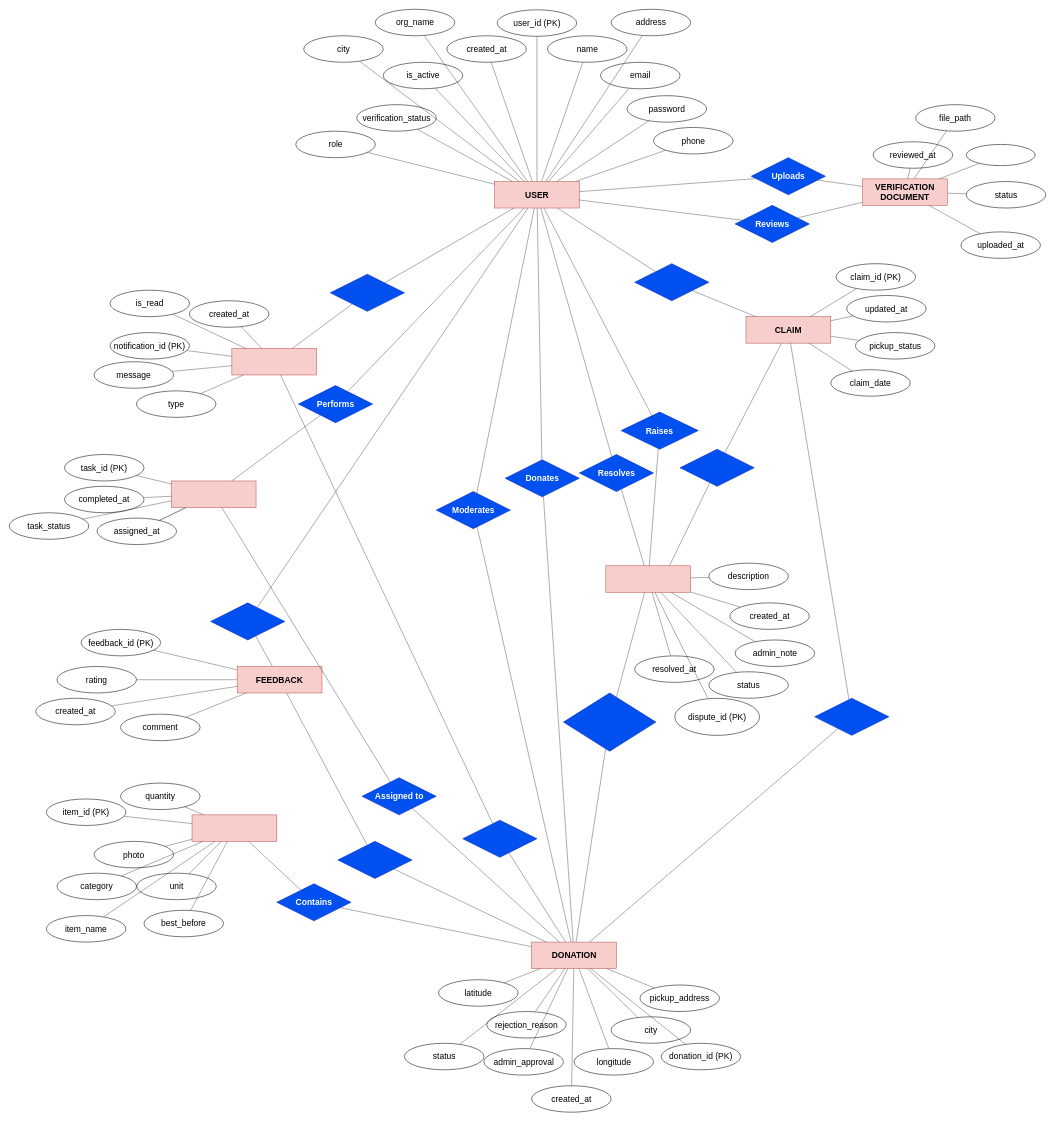
Some shapes in this 1055 by 1121 pixel diagram are drawn without their labels. The shapes that lost their labels are listed below. From the top down, each one's box as (x1, y1, x2, y2) in pixels, then its label:
(966, 144, 1035, 166): document_id (PK)
(330, 274, 404, 311): Notified
(634, 263, 709, 301): Claims
(231, 348, 317, 375): NOTIFICATION
(680, 449, 754, 486): Involves claim
(171, 480, 256, 507): VOLUNTEER TASK
(605, 565, 691, 592): DISPUTE
(210, 602, 285, 640): Gives
(563, 692, 656, 751): Involves donation
(814, 698, 889, 735): Claimed as
(191, 814, 277, 841): DONATION ITEM
(462, 820, 537, 857): Triggers
(337, 841, 412, 878): Rated
